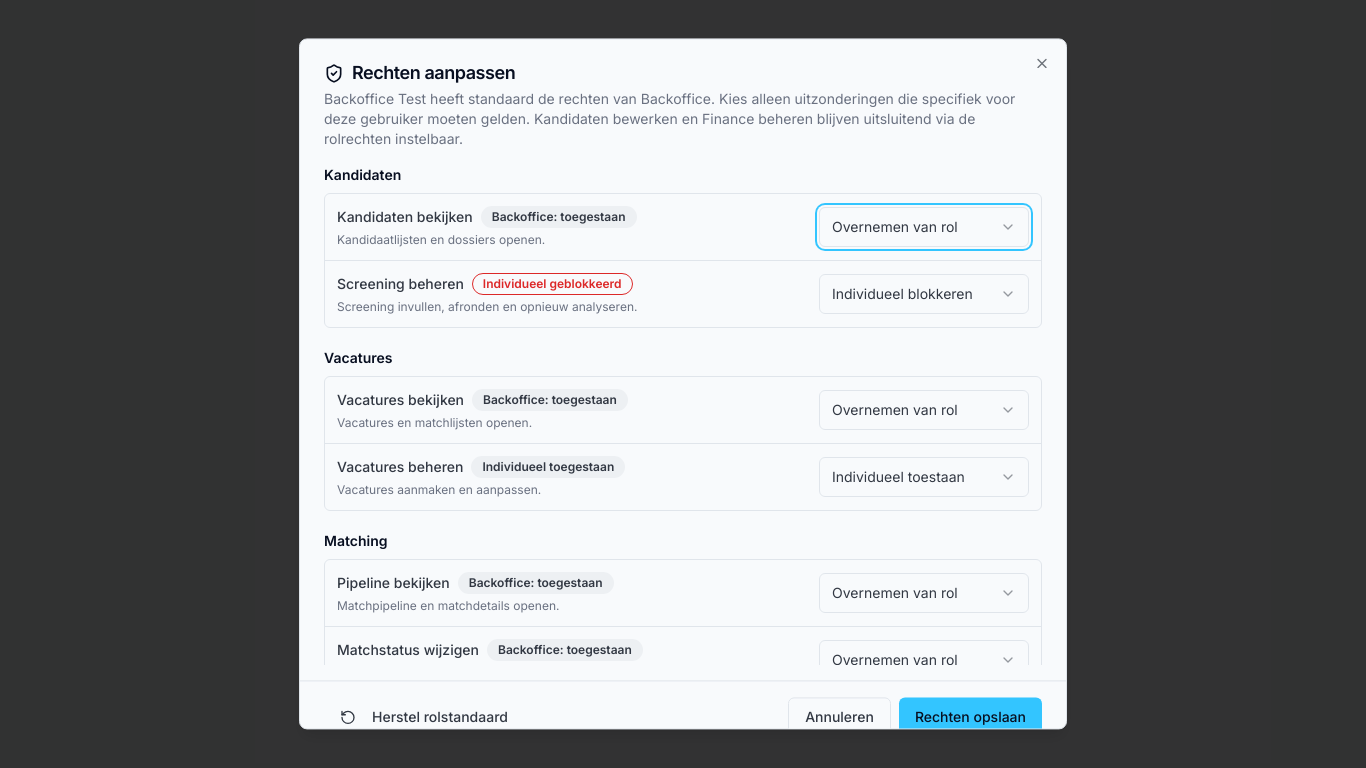
it: UserPermissionOverridesDialog › toont individuele uitzonderingen en kan alles terugzetten naar de rolstandaard
Later steps or results of the test are not shown.
Expected: the text "Individueel toegestaan" is shown, [471, 456, 625, 478]
Expected: the text "Individueel geblokkeerd" is shown, [472, 273, 633, 295]
Click the button "Herstel rolstandaard" at [424, 718], box [324, 698, 524, 738]
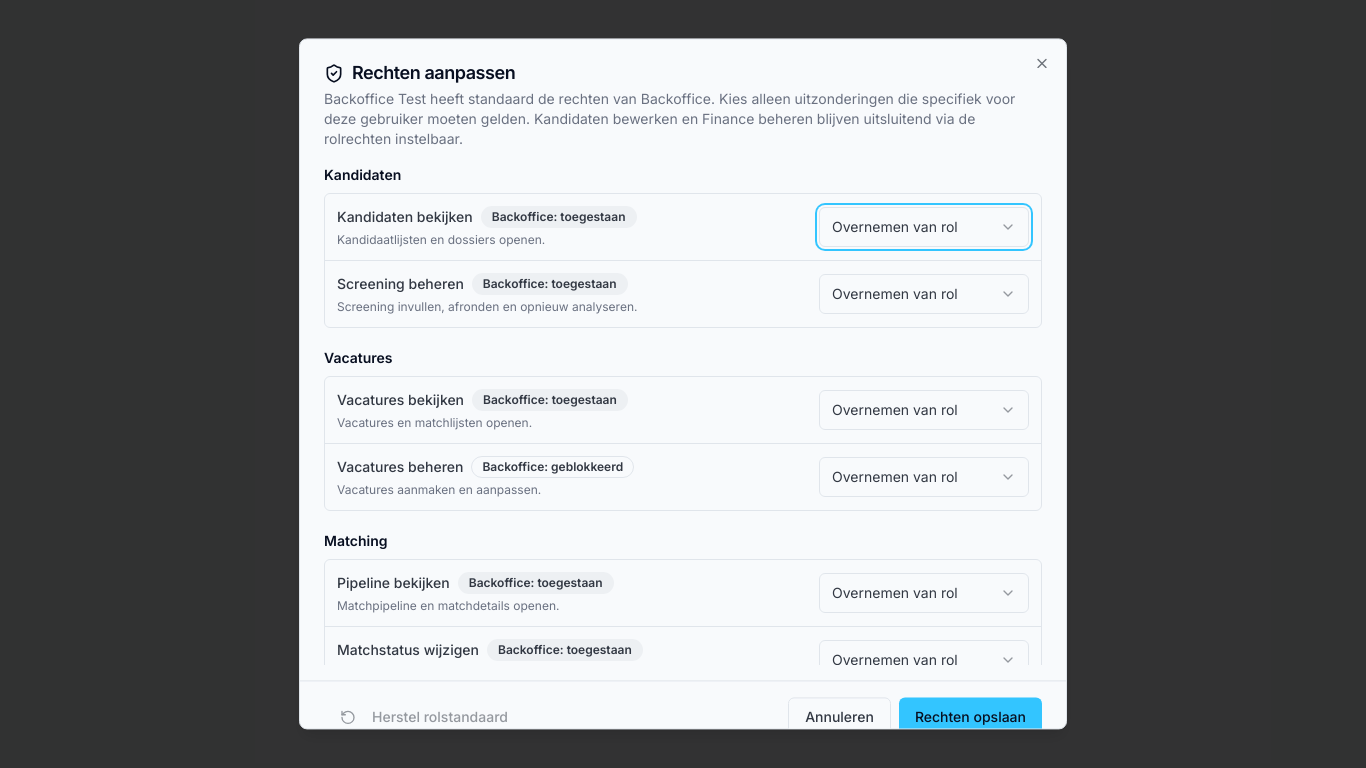
Expected: the text "Individueel toegestaan" is gone
Expected: the text "Individueel geblokkeerd" is gone
